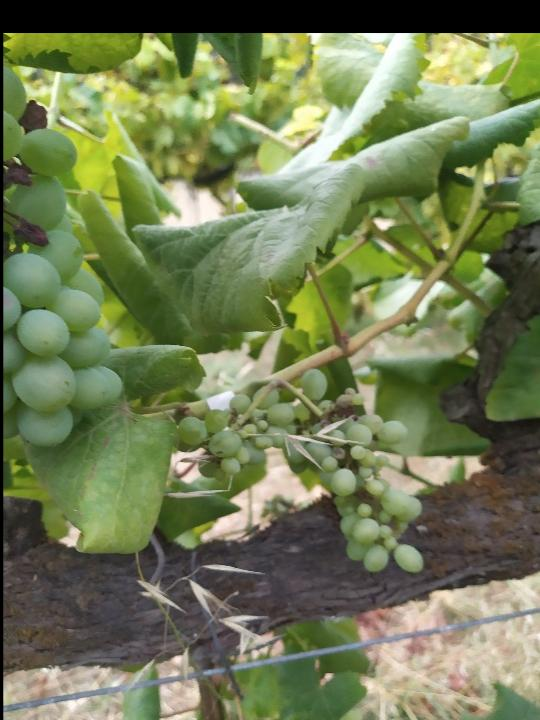grape: (178, 367, 431, 579)
